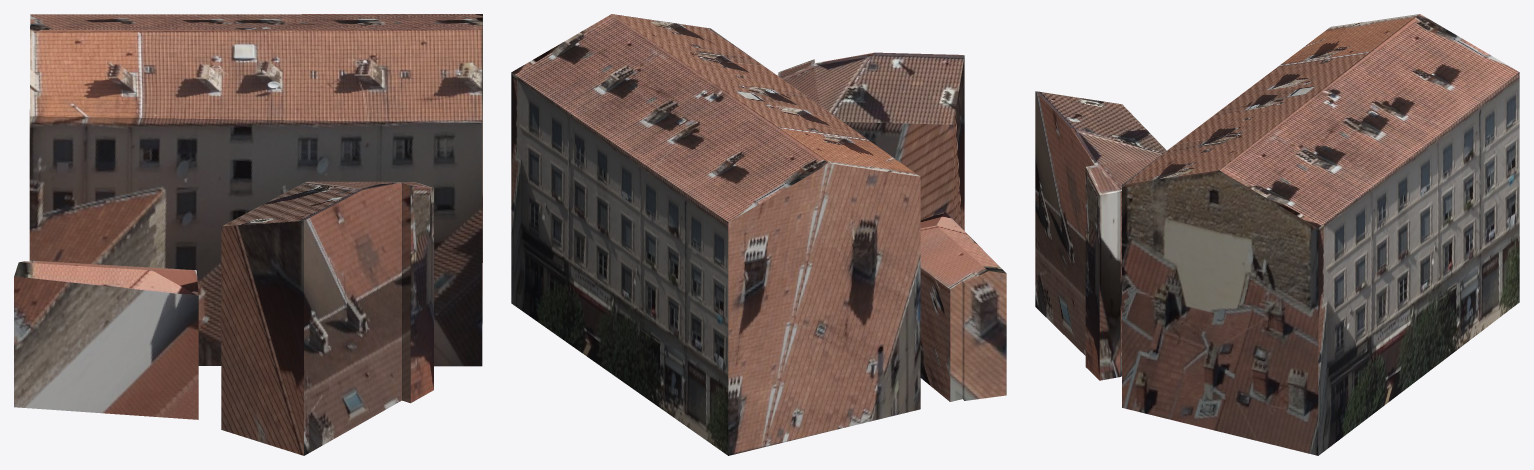
3 views of the same model, side by side, from view 1: azimuth 30°, elevation 25°; view 2: azimuth 150°, elevation 25°; view 3: azimuth 270°, elevation 25° (orthographic). The views are drawn at different scales.
Visible parts, largest first — view 1: Z_UP; view 2: Z_UP; view 3: Z_UP.
Boxes of the visible parts, x1,y1,x2,y2 form: Z_UP: (14, 14, 482, 455); Z_UP: (511, 14, 1006, 455); Z_UP: (1035, 14, 1519, 455).
Bounding box in the file's own units: 34.56 × 18.99 × 31.55.
Materials: 2 (1 with a texture image).
